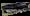gun: (1, 1, 30, 16)
